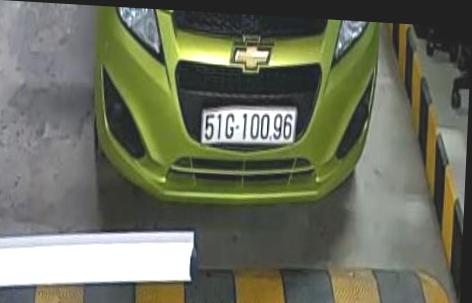License_Plate: (199, 102, 301, 151)
